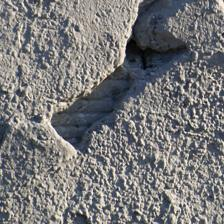Crack: (25, 0, 168, 162)
